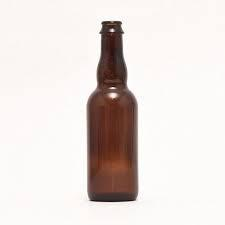beer: (86, 22, 139, 202)
